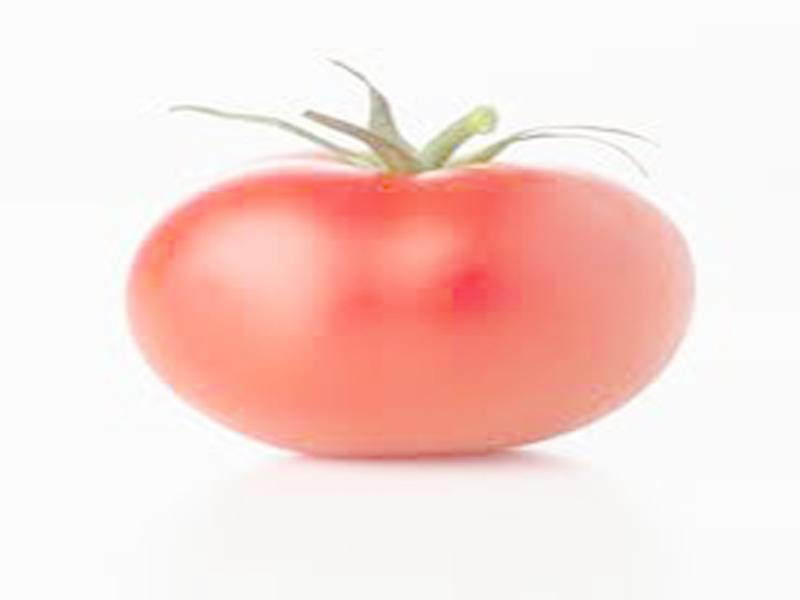Tomato: (125, 162, 690, 456)
